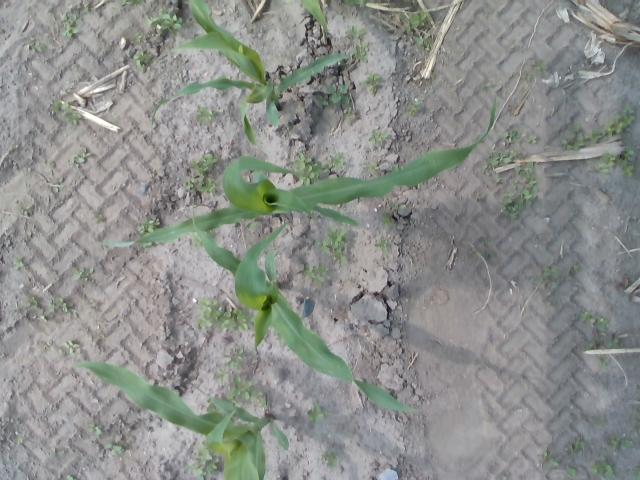Maize: (101, 96, 497, 248), (192, 204, 420, 414), (150, 0, 348, 145), (75, 360, 289, 480), (299, 0, 328, 33), (344, 1, 374, 6)
Weeds: (213, 346, 270, 408), (562, 103, 636, 150), (498, 160, 539, 220), (8, 291, 76, 325), (195, 296, 249, 332), (526, 263, 564, 305), (182, 152, 218, 196), (313, 225, 349, 268), (316, 85, 355, 124), (188, 440, 222, 480), (595, 146, 635, 178), (292, 150, 324, 184), (298, 258, 330, 292), (482, 149, 522, 173), (146, 8, 182, 34), (51, 97, 82, 127), (578, 308, 611, 332), (586, 454, 616, 479), (60, 10, 84, 39), (468, 236, 496, 260), (539, 449, 568, 470), (307, 398, 330, 424), (565, 434, 587, 460), (398, 11, 428, 28), (347, 42, 370, 64), (70, 145, 92, 168), (196, 103, 220, 124), (134, 216, 162, 234), (324, 151, 346, 173), (57, 340, 82, 359), (606, 436, 634, 452), (104, 438, 127, 457), (132, 50, 151, 72), (46, 170, 62, 194), (26, 35, 48, 52), (373, 234, 392, 253), (502, 128, 520, 148), (368, 128, 390, 144), (72, 266, 94, 282), (629, 402, 640, 433), (366, 73, 383, 93), (321, 449, 338, 469), (86, 420, 102, 440), (362, 156, 379, 174), (344, 26, 364, 41), (12, 202, 30, 218), (37, 340, 54, 356), (534, 59, 548, 78), (73, 0, 93, 13), (378, 213, 393, 228), (606, 336, 624, 348), (192, 236, 205, 252), (51, 447, 67, 460), (122, 0, 145, 9), (389, 201, 406, 213), (566, 466, 580, 480), (12, 254, 25, 269), (414, 34, 430, 46), (407, 100, 420, 114), (92, 210, 105, 223), (520, 70, 534, 82), (570, 263, 581, 277), (583, 341, 600, 350), (246, 219, 257, 231), (132, 32, 144, 42), (526, 134, 538, 144), (592, 414, 604, 424), (598, 358, 612, 366), (632, 466, 640, 480), (481, 82, 491, 90), (66, 474, 76, 480), (346, 276, 352, 284), (430, 72, 436, 80)
